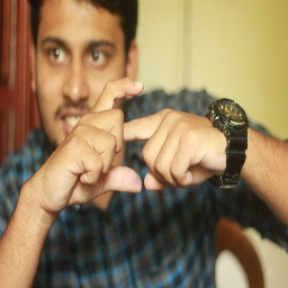E: (73, 75, 166, 198)
